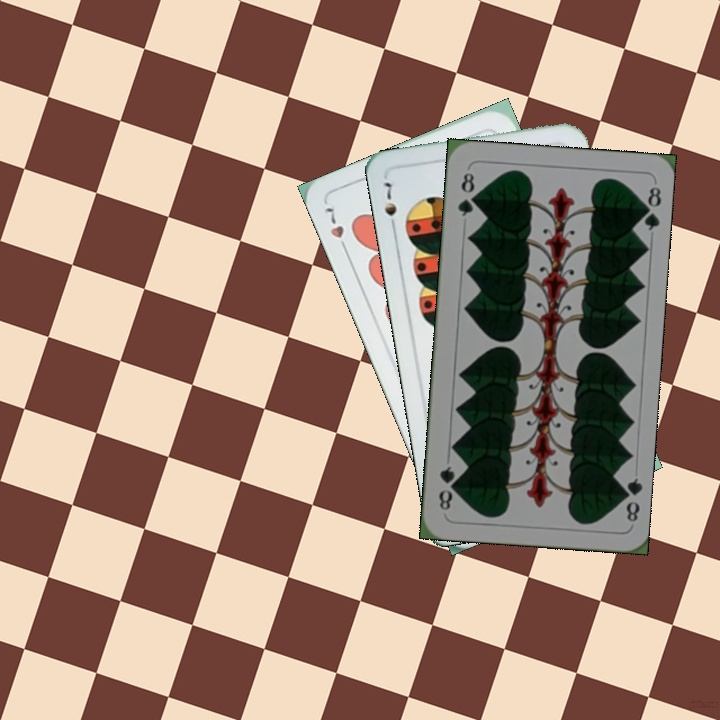G8: (615, 474, 644, 524), (453, 168, 478, 219)
H7: (319, 200, 351, 257)
S7: (379, 178, 400, 234)
